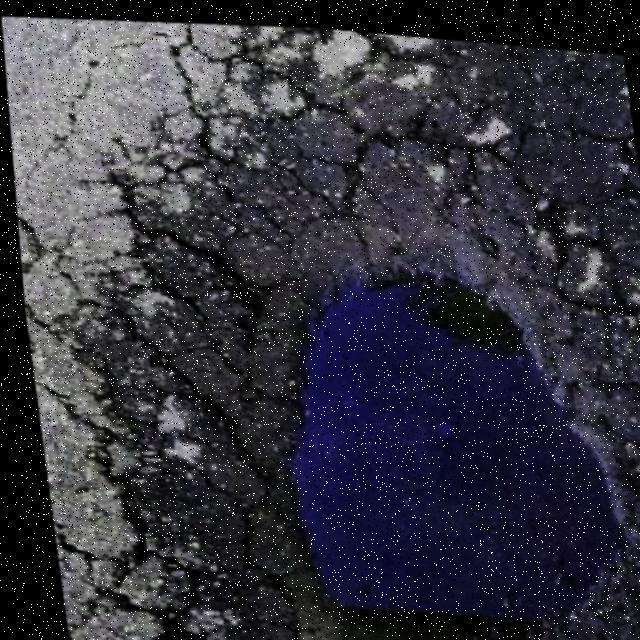pothole: (234, 232, 640, 640)
